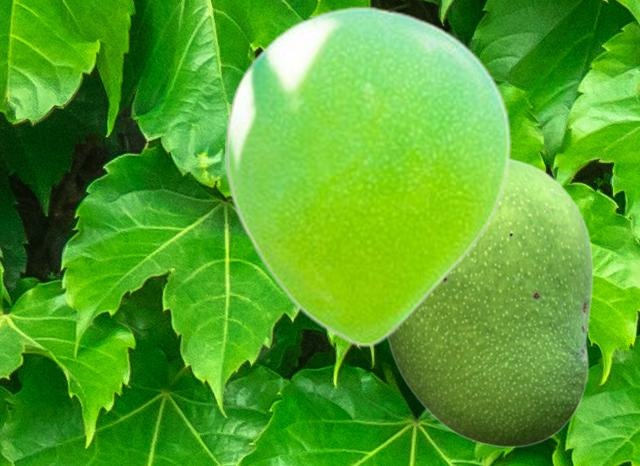green_mango: (225, 5, 510, 347), (385, 156, 592, 447)
